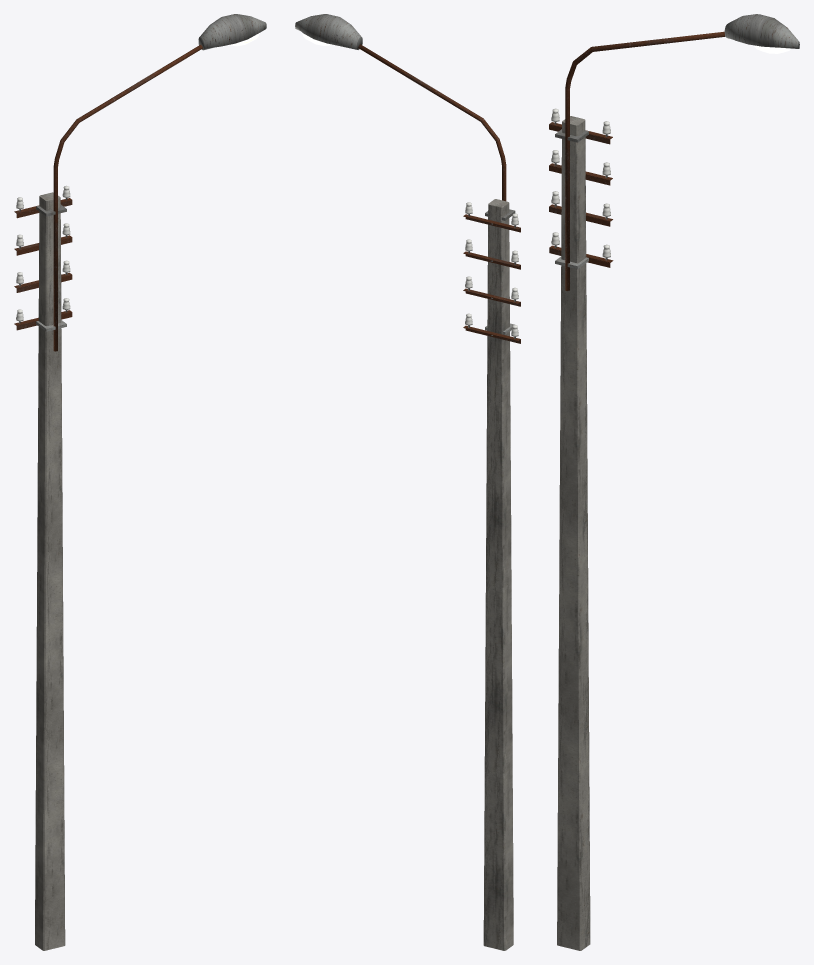
File: pole_sv95_lamp_lod2_web.glb
3 renders of one model, left to right at view 1: azimuth 30°, elevation 25°; view 2: azimuth 150°, elevation 25°; view 3: azimuth 330°, elevation 25°, orthographic. The views are drawn at different scales.
Parts seen in each view (by area): view 1: PoleSV95_Lamp_Mesh; view 2: PoleSV95_Lamp_Mesh; view 3: PoleSV95_Lamp_Mesh.
Boxes of the visible parts, x1,y1,x2,y2 form: PoleSV95_Lamp_Mesh: (14, 14, 266, 950); PoleSV95_Lamp_Mesh: (295, 14, 520, 950); PoleSV95_Lamp_Mesh: (549, 14, 799, 950).
Size of the model in its own units: 2.66 by 9.51 by 0.425.
Materials: 5 (3 with a texture image).
